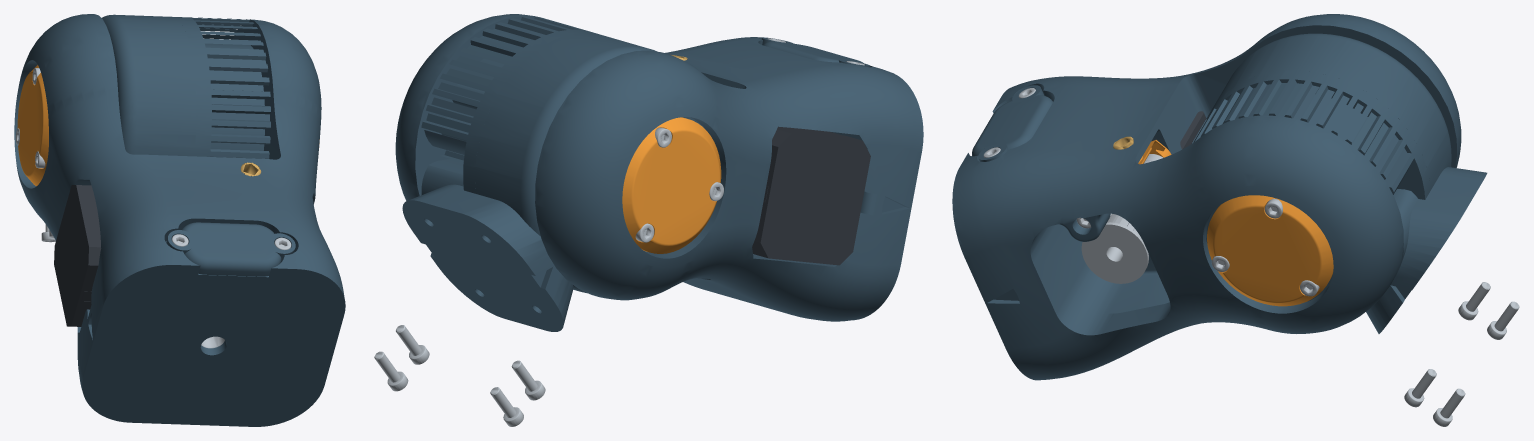
Rendered from wrist_LOD0.fbx.
The picture shows the model from 3 angles, left to right: view 1: azimuth 30°, elevation 25°; view 2: azimuth 150°, elevation 25°; view 3: azimuth 270°, elevation 25°; orthographic projection. The views are drawn at different scales.
Visible parts, largest first — view 1: MM_moveo_4m1d_44ef42247d, MM_moveo_4m2b_4e934c6d4e, MM_moveo_4m2cb_c253864565, MM_moveo_tbc_26357320af, MM_moveo_nema_14_5b52ebed0c, MM_moveo_tapa_4m1d_0befacd0a2; view 2: MM_moveo_4m1d_44ef42247d, MM_moveo_4m2b_4e934c6d4e, MM_moveo_4m2cb_c253864565, MM_moveo_nema_14_5b52ebed0c, MM_moveo_tapa_4m1d_0befacd0a2, MM_moveo_tbc_26357320af, MM_moveo_m3x10_c9c268d0e1, MM_moveo_m3x10_7a127988e2, MM_moveo_m3x10_e5b9dcee2b, MM_moveo_m3x10_26a4a73b01; view 3: MM_moveo_4m1d_44ef42247d, MM_moveo_4m2cb_c253864565, MM_moveo_4m2b_4e934c6d4e, MM_moveo_tapa_4m1d_b2d41aa5f8, MM_moveo_pulley_m5_09daa6b3b0, MM_moveo_tbc_26357320af, MM_moveo_m3x10_7a127988e2, MM_moveo_m3x10_26a4a73b01, MM_moveo_m3x10_c9c268d0e1, MM_moveo_m3x10_e5b9dcee2b.
Boxes of the visible parts, x1,y1,x2,y2 form: MM_moveo_4m1d_44ef42247d: [14, 14, 345, 426]; MM_moveo_4m2b_4e934c6d4e: [102, 14, 196, 156]; MM_moveo_4m2cb_c253864565: [174, 17, 270, 158]; MM_moveo_tbc_26357320af: [166, 222, 295, 276]; MM_moveo_nema_14_5b52ebed0c: [54, 185, 101, 326]; MM_moveo_tapa_4m1d_0befacd0a2: [17, 65, 48, 186]; MM_moveo_4m1d_44ef42247d: [395, 14, 923, 321]; MM_moveo_4m2b_4e934c6d4e: [441, 33, 656, 331]; MM_moveo_4m2cb_c253864565: [402, 16, 599, 324]; MM_moveo_nema_14_5b52ebed0c: [752, 126, 870, 265]; MM_moveo_tapa_4m1d_0befacd0a2: [622, 117, 721, 253]; MM_moveo_tbc_26357320af: [761, 37, 870, 67]; MM_moveo_m3x10_c9c268d0e1: [374, 351, 408, 391]; MM_moveo_m3x10_7a127988e2: [511, 360, 545, 400]; MM_moveo_m3x10_e5b9dcee2b: [490, 387, 523, 426]; MM_moveo_m3x10_26a4a73b01: [396, 325, 429, 364]; MM_moveo_4m1d_44ef42247d: [952, 14, 1461, 380]; MM_moveo_4m2cb_c253864565: [1192, 70, 1473, 333]; MM_moveo_4m2b_4e934c6d4e: [1212, 33, 1487, 196]; MM_moveo_tapa_4m1d_b2d41aa5f8: [1207, 195, 1333, 306]; MM_moveo_pulley_m5_09daa6b3b0: [1081, 213, 1148, 283]; MM_moveo_tbc_26357320af: [972, 85, 1052, 161]; MM_moveo_m3x10_7a127988e2: [1458, 282, 1490, 320]; MM_moveo_m3x10_26a4a73b01: [1404, 369, 1436, 407]; MM_moveo_m3x10_c9c268d0e1: [1433, 388, 1465, 426]; MM_moveo_m3x10_e5b9dcee2b: [1487, 301, 1519, 339].
Bounding box in the file's own units: 0.1172 × 0.1071 × 0.1632.
